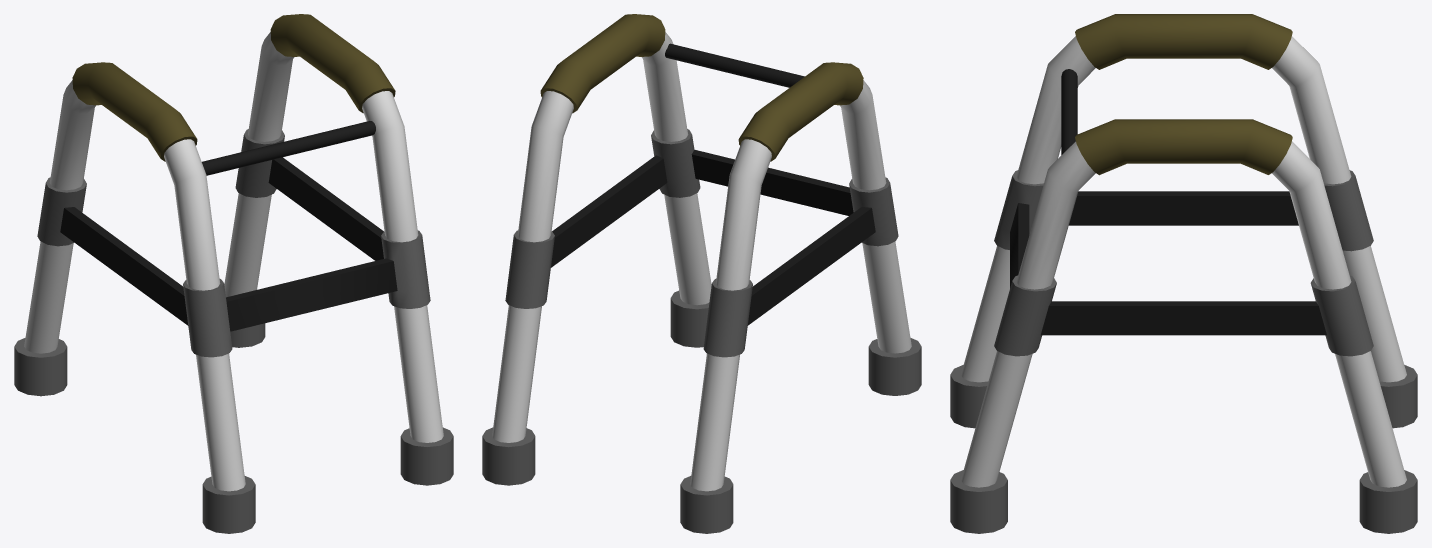
File: Andador.fbx
3 renders of one model, left to right at view 1: azimuth 30°, elevation 25°; view 2: azimuth 150°, elevation 25°; view 3: azimuth 270°, elevation 25°, orthographic. The views are drawn at different scales.
Parts seen in each view (by area): view 1: Andador; view 2: Andador; view 3: Andador.
Boxes of the visible parts, left/top/right/bottom form: Andador: left=14, top=14, right=453, bottom=533; Andador: left=482, top=14, right=921, bottom=533; Andador: left=950, top=14, right=1417, bottom=533.
Bounding box in the file's own units: 1.44 × 2.07 × 2.19.
